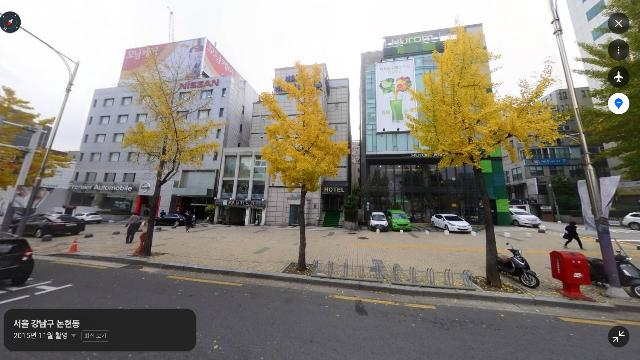ginkgo: (399, 15, 569, 289), (116, 42, 229, 258), (256, 59, 351, 273)
other: (565, 0, 640, 228)
